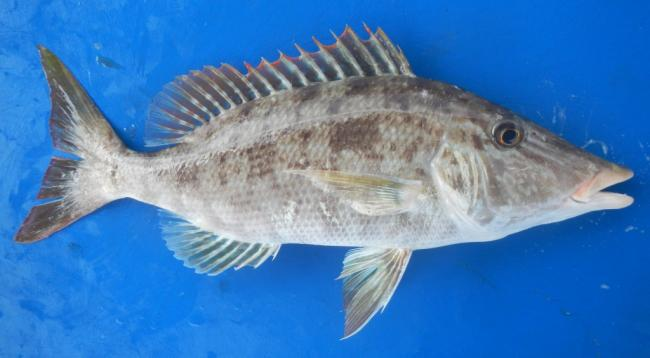fish: (13, 20, 636, 342)
